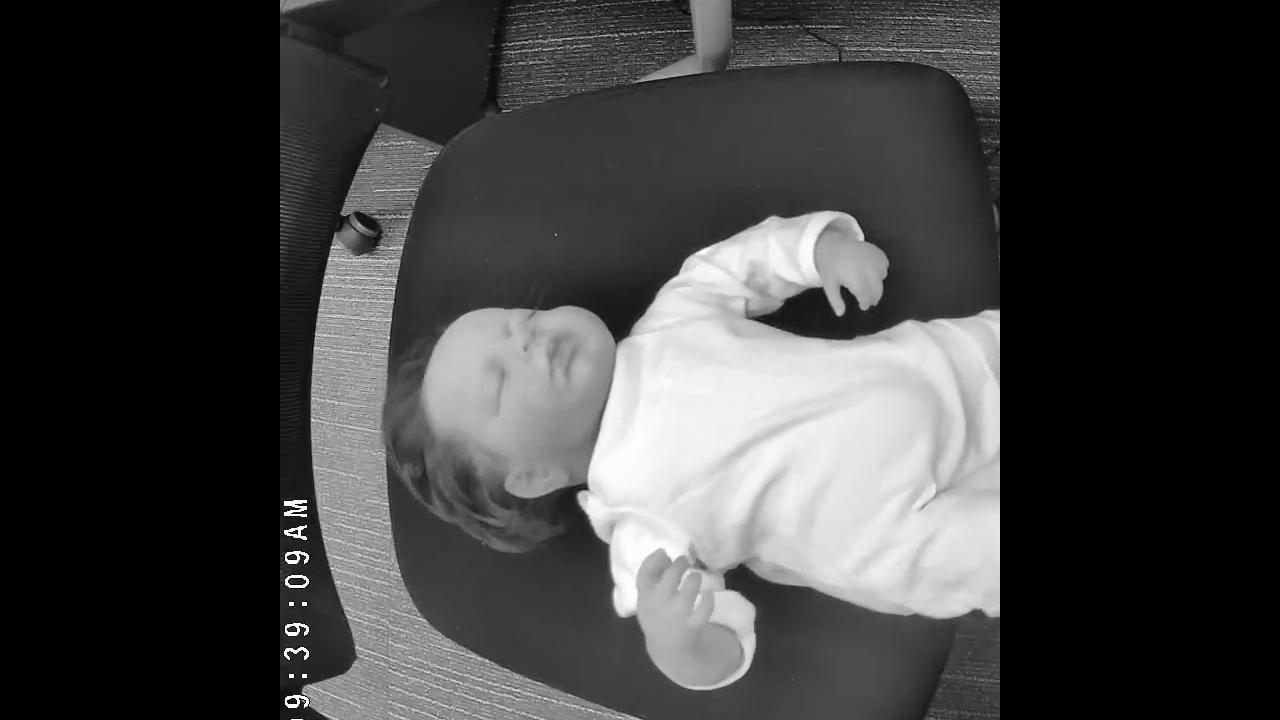hand: (634, 550, 744, 682), (816, 228, 892, 320)
